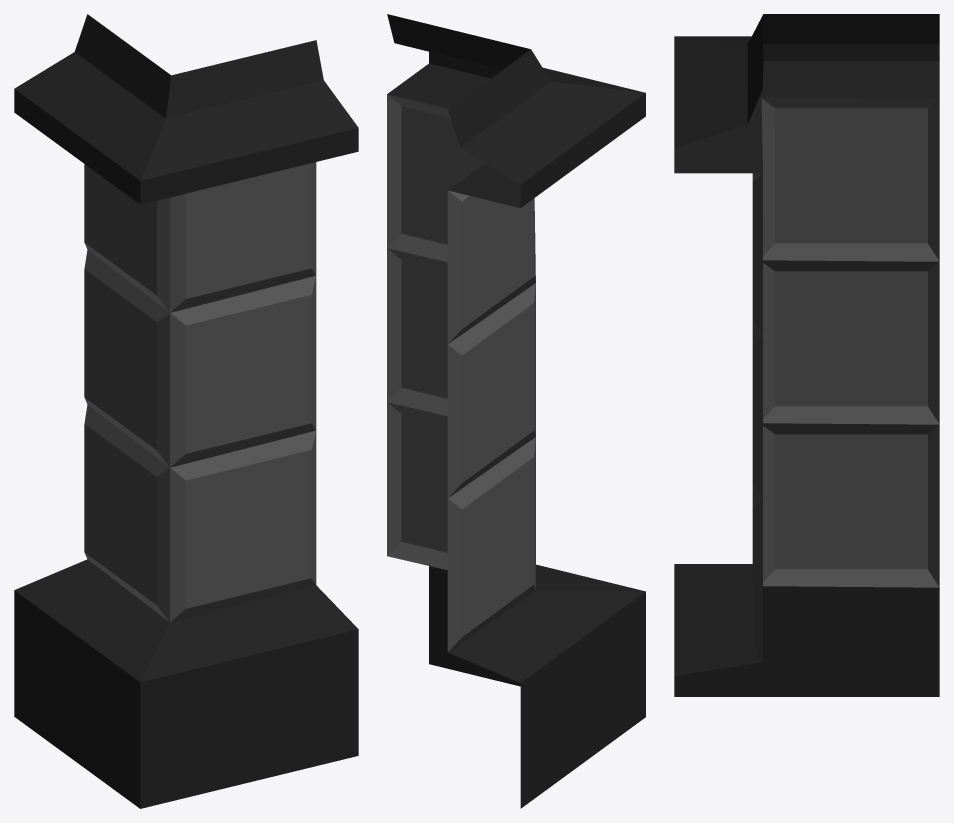
File: corner_wall_bumb_inside_C.fbx
The picture shows the model from 3 angles, left to right: view 1: azimuth 30°, elevation 25°; view 2: azimuth 150°, elevation 25°; view 3: azimuth 270°, elevation 25°; orthographic projection. The views are drawn at different scales.
Parts seen in each view (by area): view 1: corner_wall_bumb_inside_C; view 2: corner_wall_bumb_inside_C; view 3: corner_wall_bumb_inside_C.
Boxes of the visible parts, x1=… form: corner_wall_bumb_inside_C: x1=14, y1=14, x2=358, y2=808; corner_wall_bumb_inside_C: x1=387, y1=14, x2=645, y2=808; corner_wall_bumb_inside_C: x1=674, y1=14, x2=939, y2=696.
Bounding box in the file's own units: 100 × 300 × 100.
